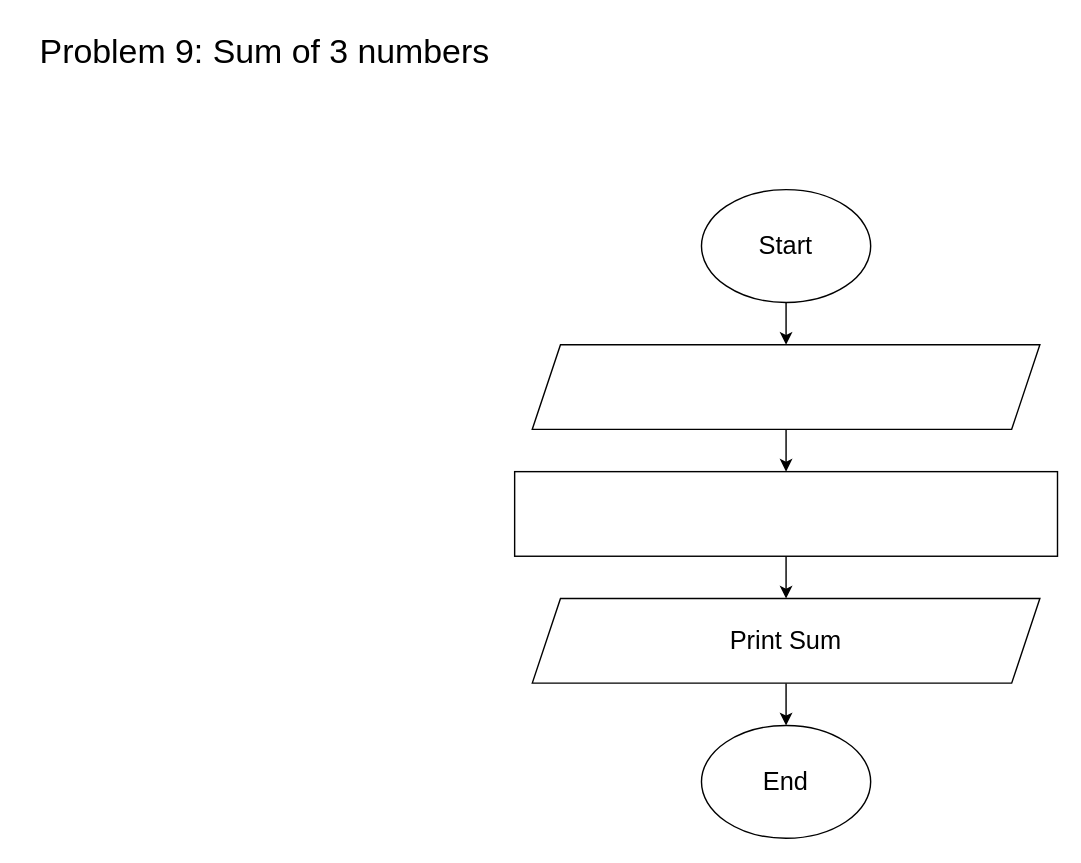
The diagram is 1081 pixels wide and 863 high, and some of its shapes have lost their labels. Here are the shapes that lost their labels. From the top down, the centre of each, then its label:
At (x=785, y=386): "Read Number1, Number2, Number3".
At (x=785, y=513): "Sum = Number1 + Number2 + Number3".
